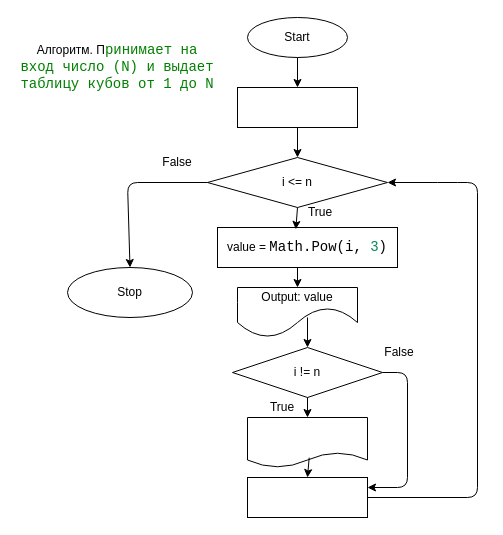
Image size: 503x535. Some labels were removed from this diagram. Each missing label, with the centre of its shape:
i = i + 1: point (307, 497)
n = 3 i = 1: point (297, 107)
Output: ", ": point (307, 442)
